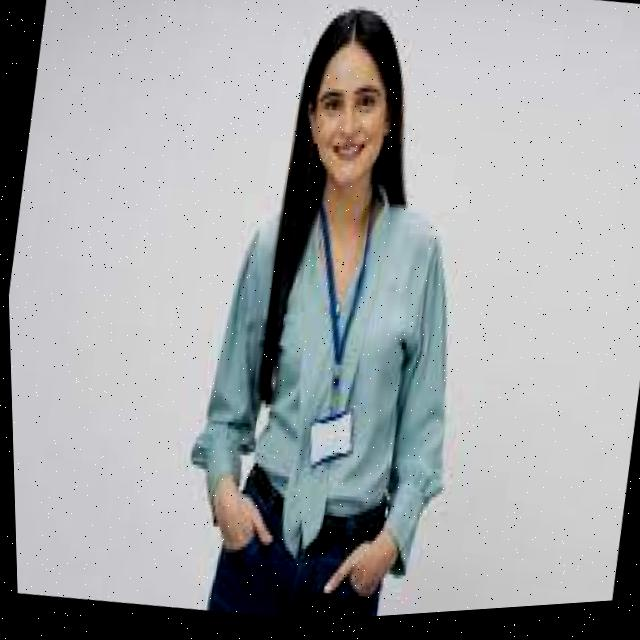id_card: (274, 194, 405, 486)
